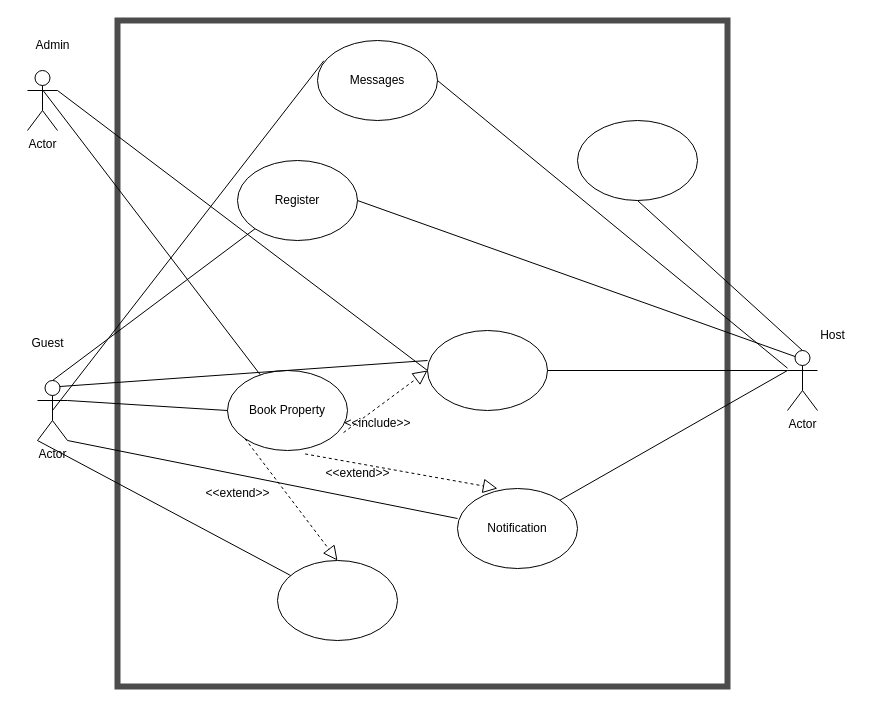
Some shapes in this 874 by 706 pixel diagram are drawn without their labels. Each missing label, with the box of its shape:
Payment: (426, 330, 548, 410)
Property Management: (576, 120, 698, 200)
Review and Rating: (276, 560, 398, 640)
